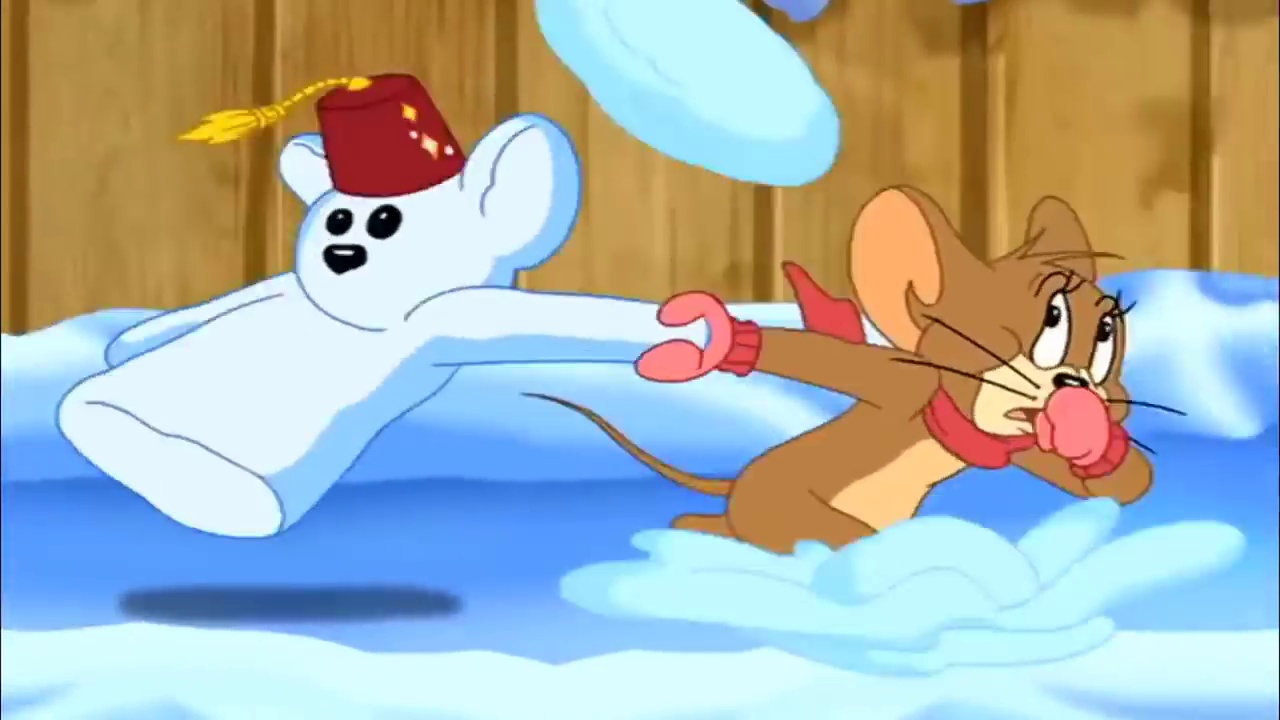face: (969, 267, 1124, 439)
